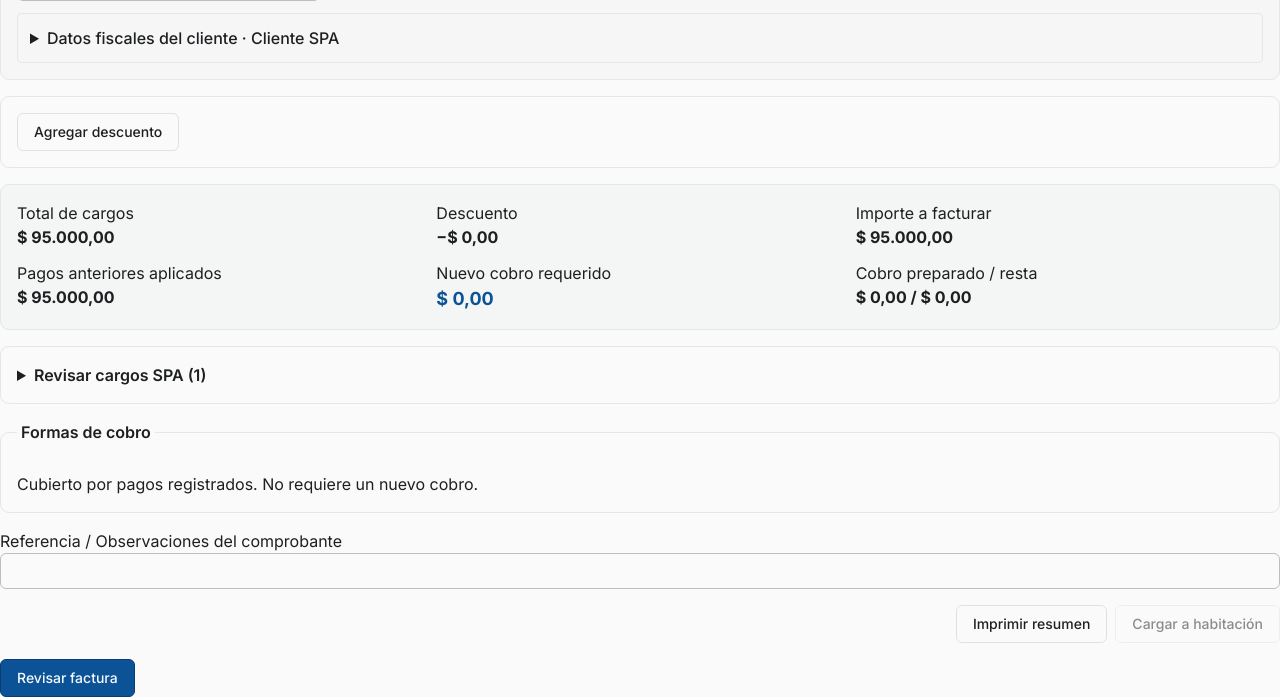
a fully paid account can use its original receipts without an open cash shift
(page scrolled)
Click the button "Revisar factura": (67, 678) [0, 659, 135, 696]
(page scrolled)
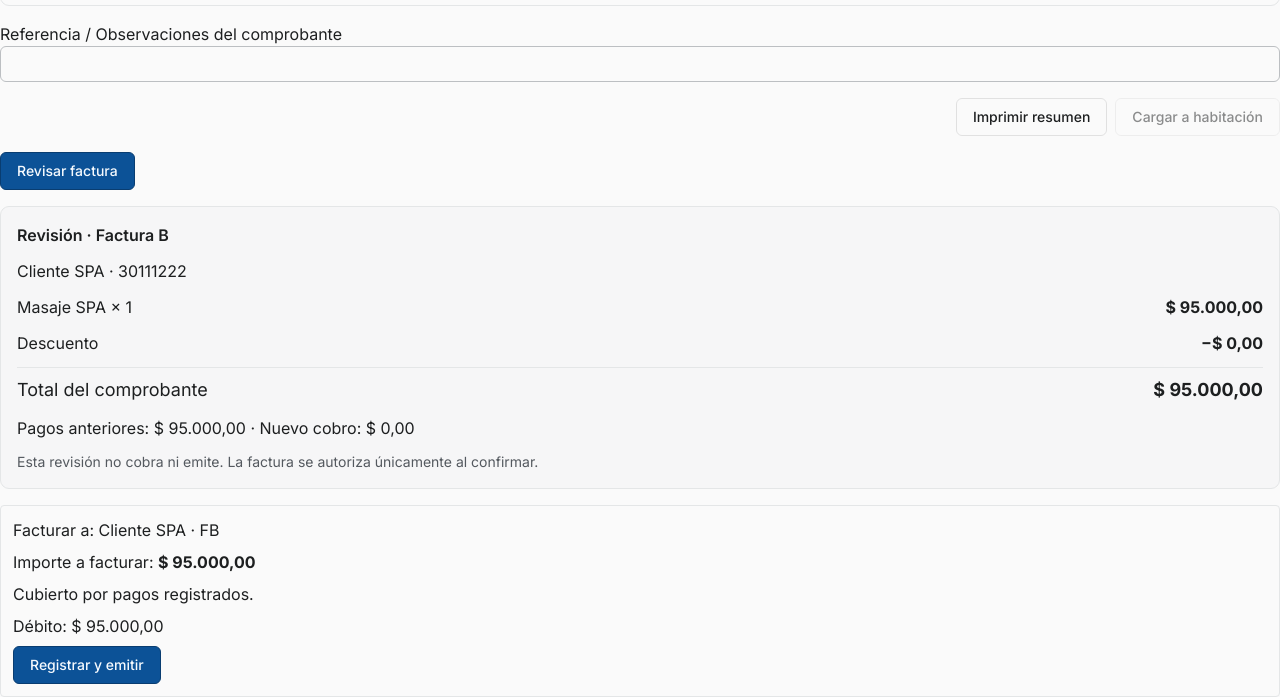
Check: the button "Registrar y emitir" is shown, box [13, 646, 161, 684]
